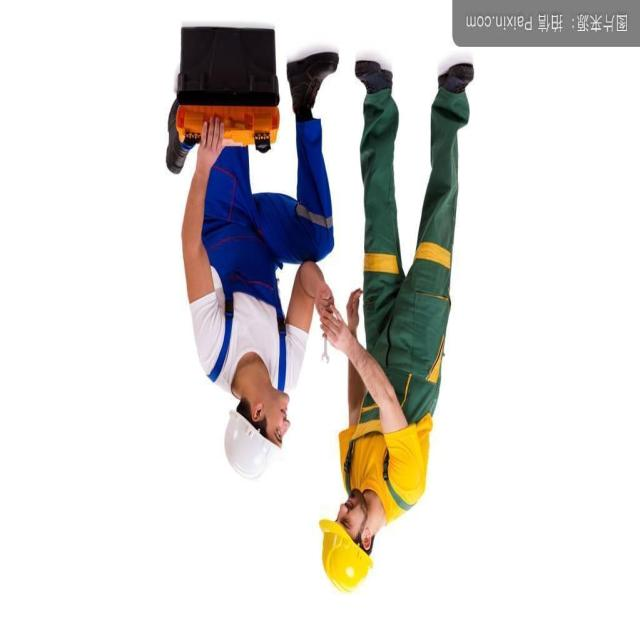helmet: (220, 409, 294, 491), (314, 516, 380, 599)
